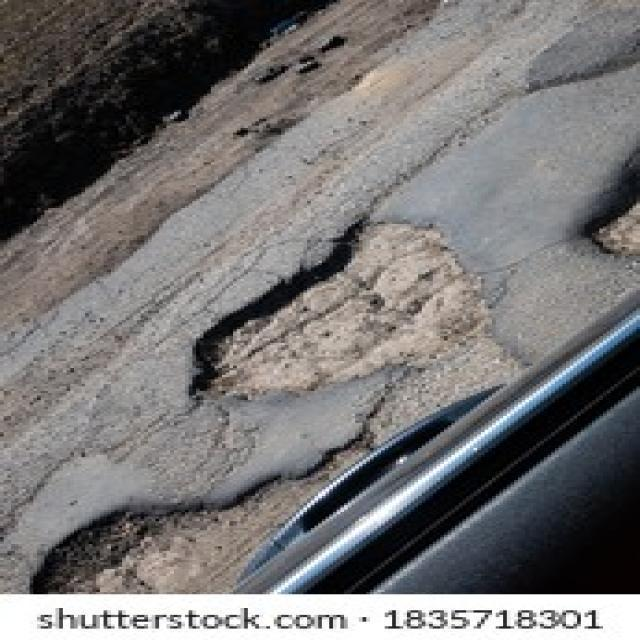Buraco: (26, 212, 531, 593), (573, 149, 640, 262)
